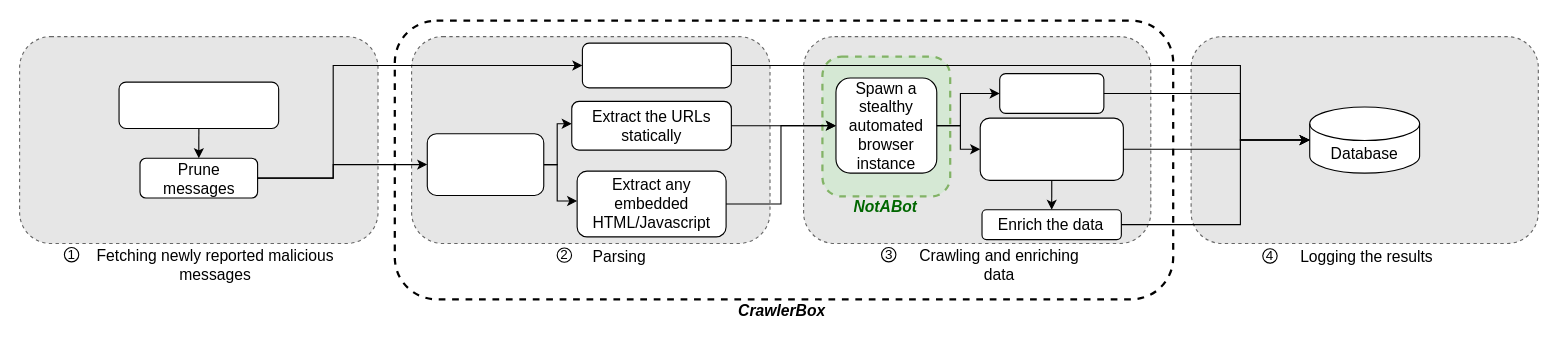
Some shapes in this 1558 by 342 pixel diagram are drawn without their labels. The shapes that lost their labels are listed below. From the top down, each one's box as (x1, y1, x2, y2) in pixels, then its label:
(581, 42, 731, 88): Extract the email headers
(118, 81, 279, 128): Fetch newly reported messages
(999, 72, 1104, 113): Take a screenshot
(426, 133, 544, 195): Parse recursively the mail parts
(979, 117, 1123, 180): Extract request/response data
